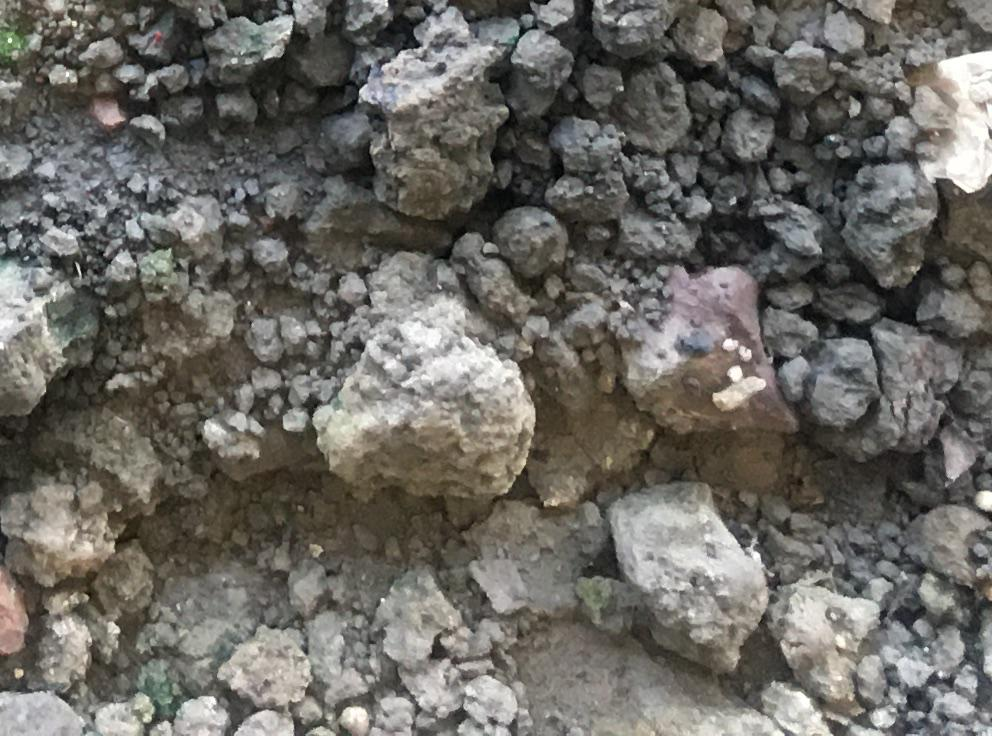block: (311, 323, 533, 503), (620, 263, 797, 444), (602, 475, 761, 674), (360, 39, 492, 222), (809, 312, 954, 464), (1, 256, 93, 413)
